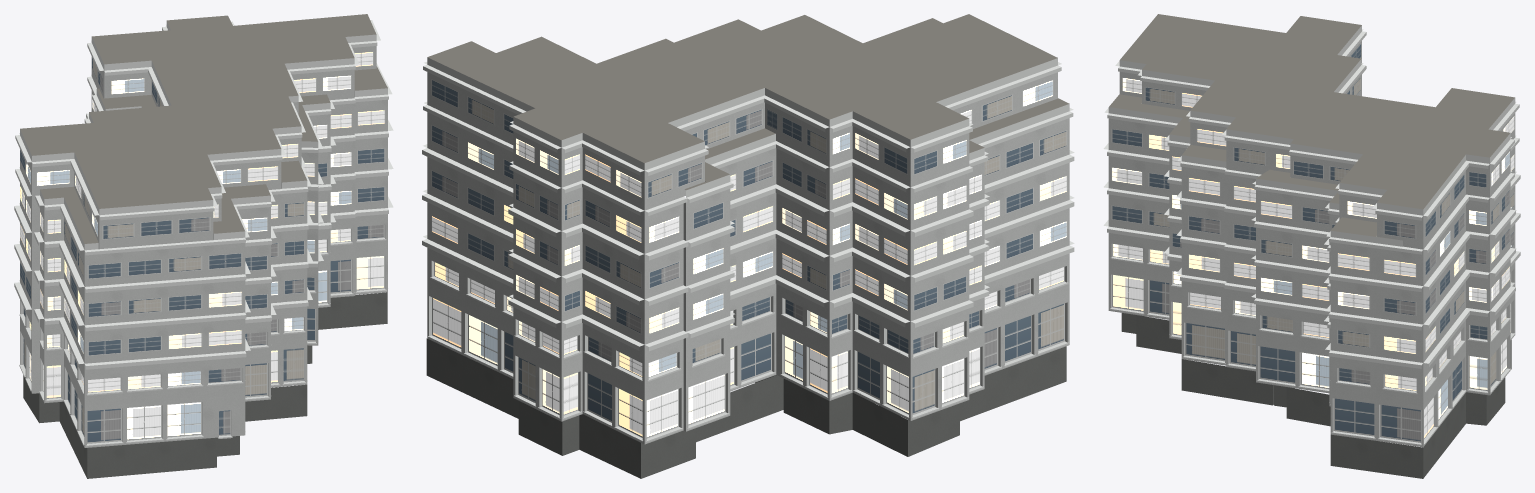
The model's file is z3a_kal_glass.glb.
3 renders of one model, left to right at view 1: azimuth 30°, elevation 25°; view 2: azimuth 150°, elevation 25°; view 3: azimuth 270°, elevation 25°, orthographic. The views are drawn at different scales.
Parts seen in each view (by area): view 1: z3a_kal_glass; view 2: z3a_kal_glass; view 3: z3a_kal_glass.
Part boxes in pixels (bbox=[...]): z3a_kal_glass: bbox=[14, 14, 393, 478]; z3a_kal_glass: bbox=[422, 14, 1074, 478]; z3a_kal_glass: bbox=[1103, 14, 1520, 478].
Size of the model in its own units: 42.12 by 25.66 by 36.04.
Materials: 3 (3 with a texture image).
